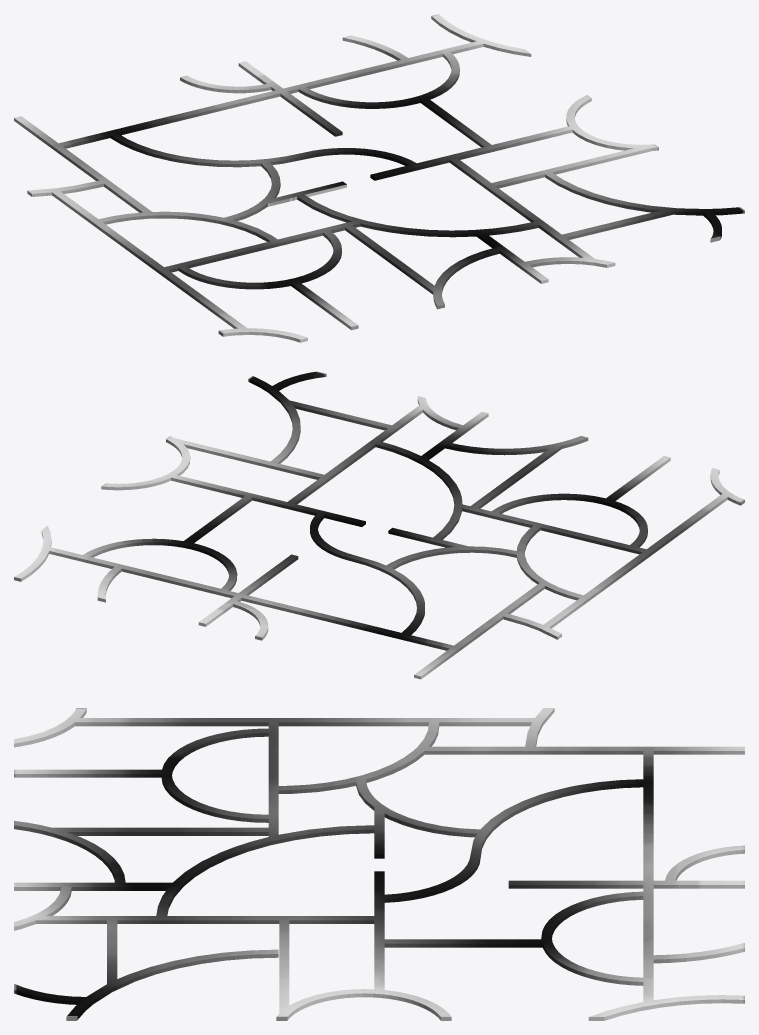
Rendered from Route_compressed.glb.
3 renders of one model, top to bottom at view 1: azimuth 30°, elevation 25°; view 2: azimuth 150°, elevation 25°; view 3: azimuth 270°, elevation 25°, orthographic. The views are drawn at different scales.
Parts seen in each view (by area): view 1: Route; view 2: Route; view 3: Route.
Boxes of the visible parts, x1,y1,x2,y2 form: Route: [14, 14, 744, 342]; Route: [14, 371, 744, 679]; Route: [14, 708, 744, 1020].
Bounding box in the file's own units: 31.47 × 0.1825 × 31.47.
Materials: 1 (1 with a texture image).
